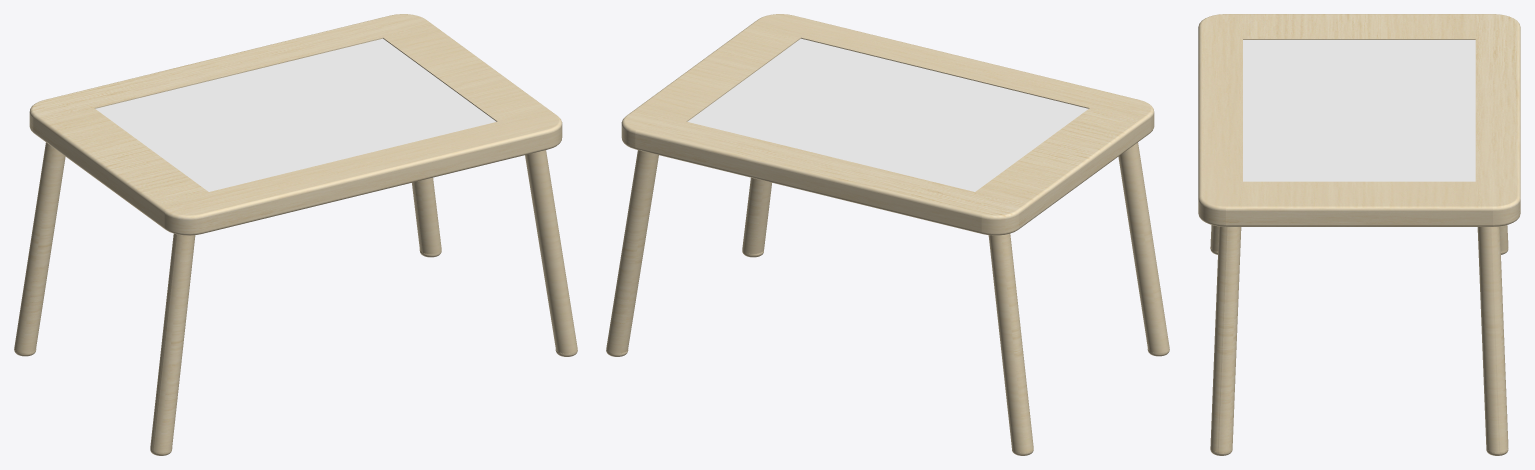
3 renders of one model, left to right at view 1: azimuth 30°, elevation 25°; view 2: azimuth 150°, elevation 25°; view 3: azimuth 270°, elevation 25°, orthographic.
Visible parts, largest first — view 1: IKE160006; view 2: IKE160006; view 3: IKE160006.
Part boxes in pixels (x1,y1,x2,y2): IKE160006: (14, 14, 577, 455); IKE160006: (606, 14, 1169, 455); IKE160006: (1198, 14, 1520, 455).
Bounding box in the file's own units: 895 × 480 × 580.
Materials: 2 (1 with a texture image).
